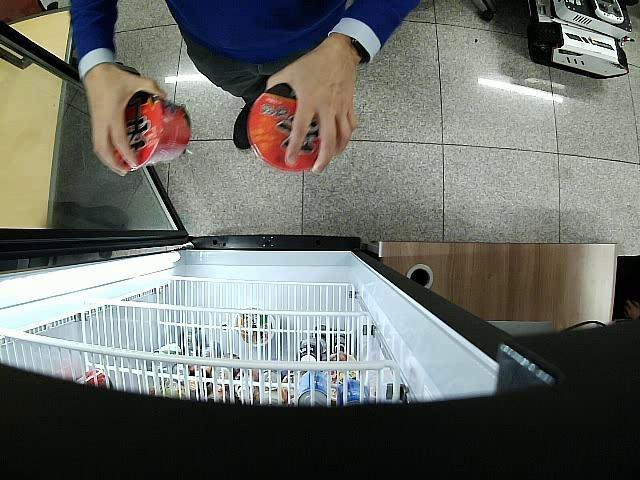01_ShinRamen_L: (247, 82, 322, 174), (112, 91, 192, 172)
